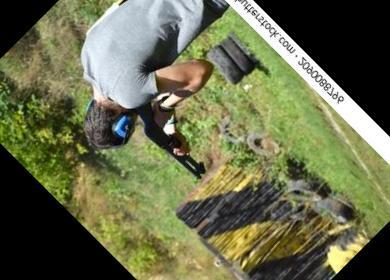larga: (139, 104, 207, 181)
